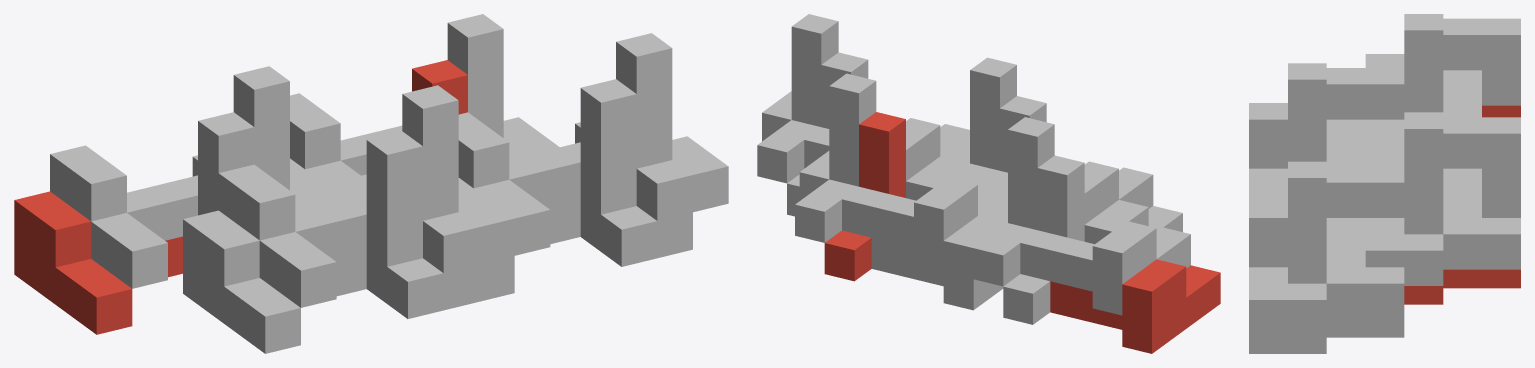
The model's file is tiling.obj.
The picture shows the model from 3 angles, left to right: view 1: azimuth 30°, elevation 25°; view 2: azimuth 150°, elevation 25°; view 3: azimuth 270°, elevation 25°; orthographic projection. The views are drawn at different scales.
Parts seen in each view (by area): view 1: copy_1_domain_4, copy_2_domain_6, copy_2_domain_2, copy_1_domain_3, copy_1_domain_2, copy_2_domain_8, copy_2_domain_4, copy_1_domain_1, copy_1_domain_8, copy_2_domain_3, copy_2_domain_7, copy_1_domain_7 (+3 smaller); view 2: copy_1_domain_3, copy_1_domain_1, copy_1_domain_7, copy_2_domain_8, copy_2_domain_7, copy_2_domain_3, copy_2_domain_1, copy_2_domain_5, copy_1_domain_5, copy_2_domain_4, copy_1_domain_4, copy_1_domain_8 (+4 smaller); view 3: copy_2_domain_8, copy_2_domain_7, copy_1_domain_8, copy_1_domain_4, copy_1_domain_7, copy_1_domain_3, copy_2_domain_3, copy_2_domain_4, copy_2_domain_6, copy_2_domain_5, copy_1_domain_2, copy_1_domain_6 (+2 smaller).
Boxes of the visible parts, bbox=[...] form: copy_1_domain_4: bbox=[218, 164, 366, 307]; copy_2_domain_6: bbox=[580, 79, 692, 266]; copy_2_domain_2: bbox=[366, 131, 478, 318]; copy_1_domain_3: bbox=[50, 145, 197, 288]; copy_1_domain_2: bbox=[183, 210, 366, 353]; copy_2_domain_8: bbox=[575, 33, 728, 220]; copy_2_domain_4: bbox=[361, 85, 514, 272]; copy_1_domain_1: bbox=[14, 191, 182, 334]; copy_1_domain_8: bbox=[458, 112, 580, 255]; copy_2_domain_3: bbox=[192, 66, 345, 211]; copy_2_domain_7: bbox=[447, 14, 559, 159]; copy_1_domain_7: bbox=[290, 93, 402, 199]; copy_1_domain_3: bbox=[1020, 221, 1190, 315]; copy_1_domain_1: bbox=[1050, 259, 1220, 353]; copy_1_domain_7: bbox=[842, 177, 1007, 271]; copy_2_domain_8: bbox=[757, 14, 838, 183]; copy_2_domain_7: bbox=[795, 73, 876, 242]; copy_2_domain_3: bbox=[973, 117, 1054, 286]; copy_2_domain_1: bbox=[1003, 155, 1084, 324]; copy_2_domain_5: bbox=[824, 112, 905, 281]; copy_1_domain_5: bbox=[871, 216, 1007, 310]; copy_2_domain_4: bbox=[941, 57, 1016, 186]; copy_1_domain_4: bbox=[983, 161, 1153, 224]; copy_1_domain_8: bbox=[804, 118, 969, 180]; copy_2_domain_8: bbox=[1249, 161, 1404, 335]; copy_2_domain_7: bbox=[1365, 112, 1520, 285]; copy_1_domain_8: bbox=[1249, 166, 1404, 267]; copy_1_domain_4: bbox=[1249, 68, 1404, 166]; copy_1_domain_7: bbox=[1365, 117, 1520, 217]; copy_1_domain_3: bbox=[1365, 18, 1520, 117]; copy_2_domain_3: bbox=[1365, 14, 1443, 152]; copy_2_domain_4: bbox=[1249, 63, 1326, 201]; copy_2_domain_6: bbox=[1249, 318, 1404, 353]; copy_2_domain_5: bbox=[1404, 269, 1520, 304]; copy_1_domain_2: bbox=[1249, 154, 1287, 168]; copy_1_domain_6: bbox=[1249, 253, 1287, 267].
Size of the model in its own units: 16 by 5 by 7.
